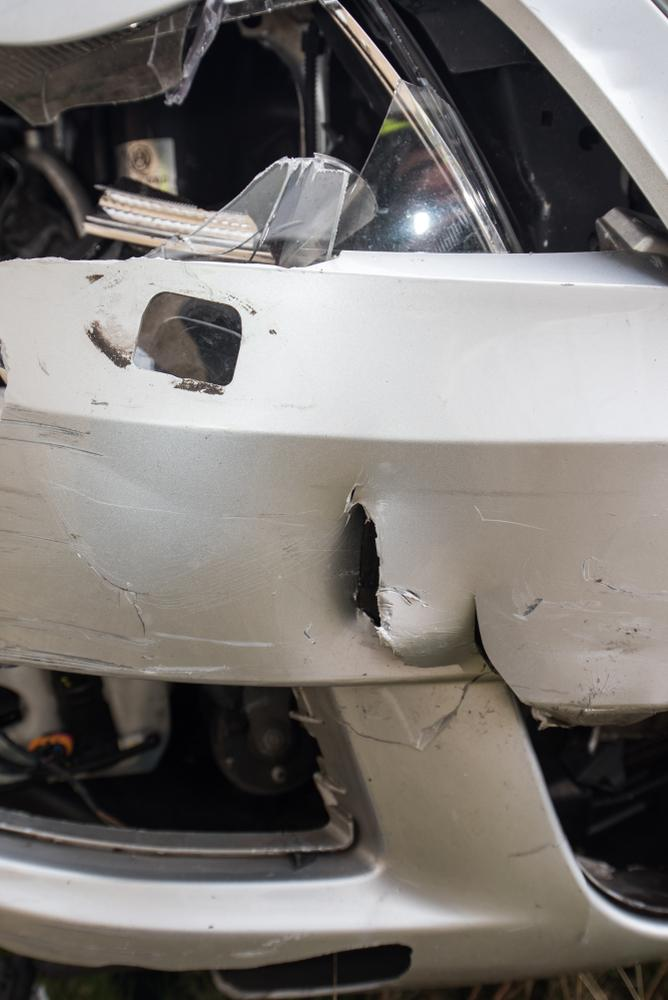crack: (333, 483, 521, 753)
lamp broken: (0, 0, 668, 266)
scratch: (0, 403, 296, 685), (507, 559, 668, 714)
